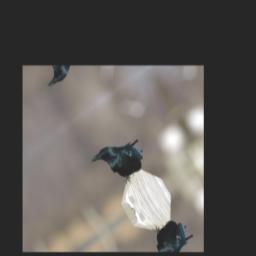Crow: (90, 128, 153, 195)
